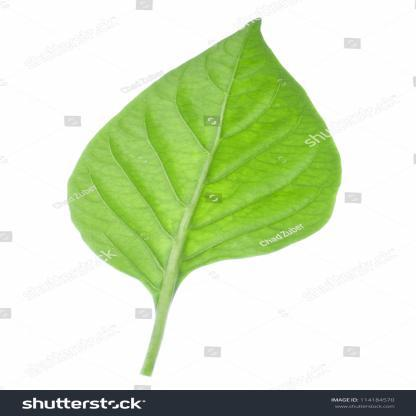Bell_pepper leaf spot: (63, 17, 346, 291)
